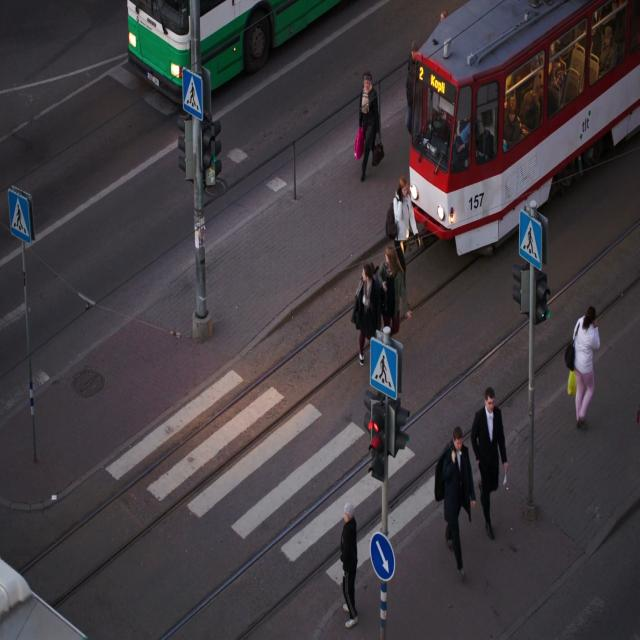pedestrian: (434, 427, 476, 577), (471, 387, 508, 539), (572, 306, 600, 426), (354, 71, 383, 180), (385, 177, 417, 268)
